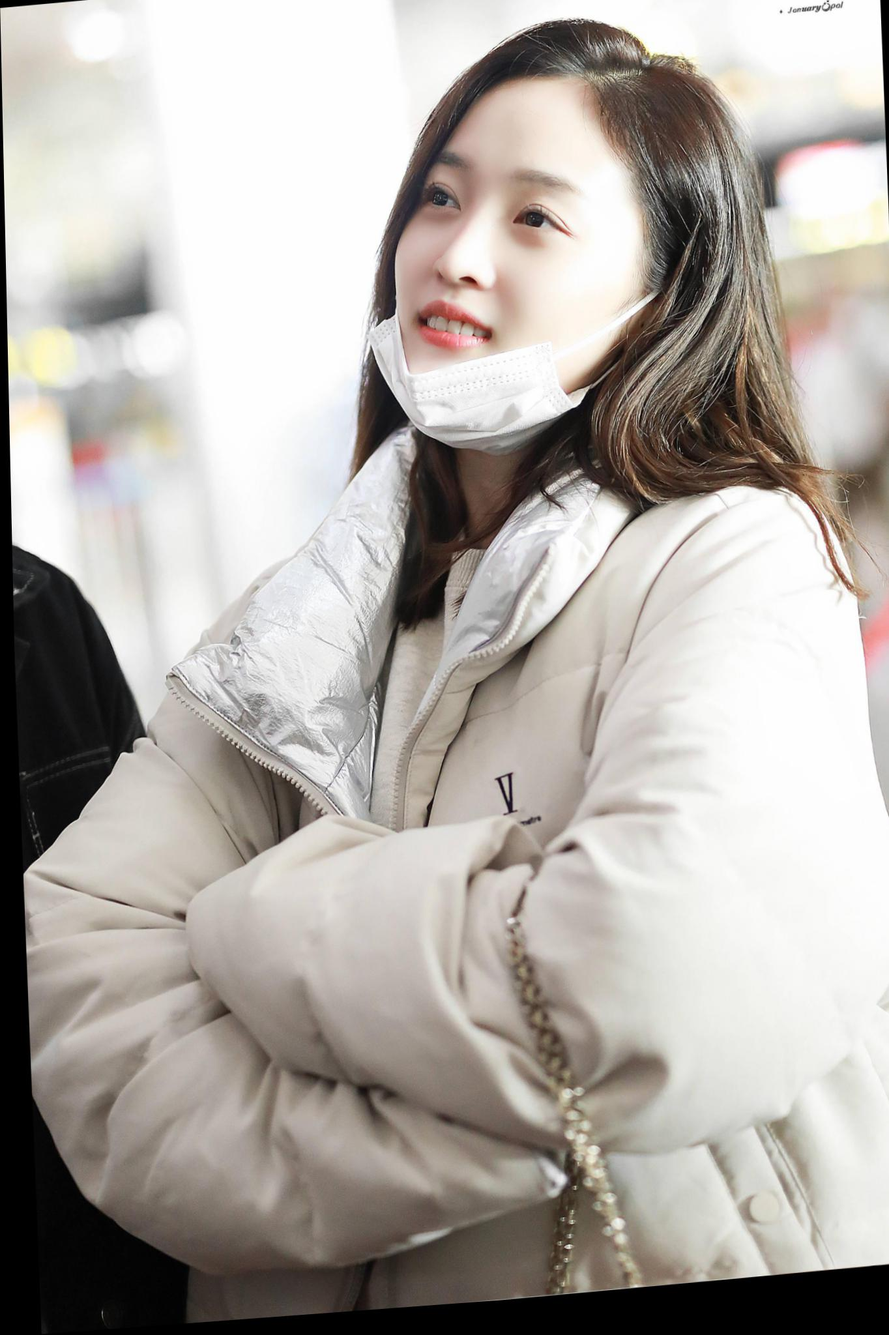WRONG: (385, 139, 635, 447)
